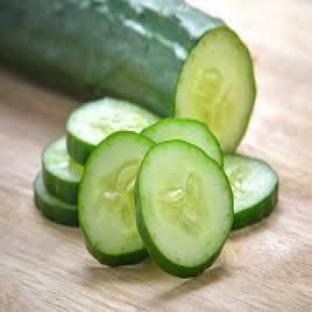Cucumber: (136, 142, 233, 277), (78, 132, 153, 265), (176, 29, 256, 152), (67, 98, 158, 164), (225, 155, 278, 229), (143, 118, 223, 165), (42, 138, 83, 204), (34, 173, 77, 225)
